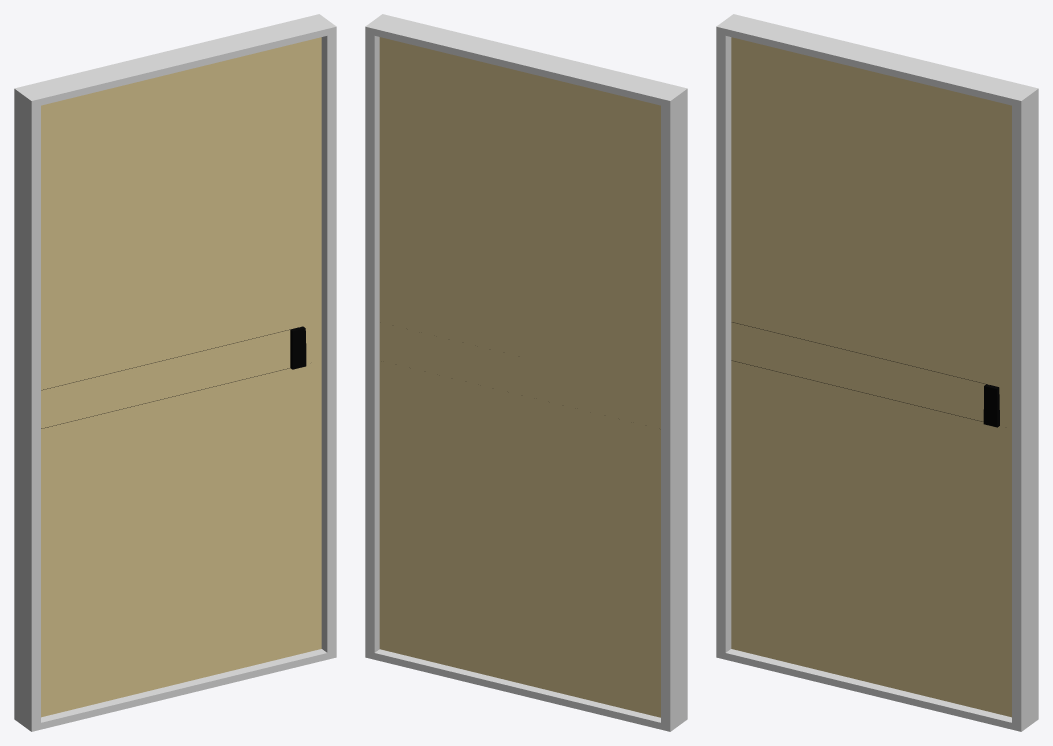
The picture shows the model from 3 angles, left to right: view 1: azimuth 30°, elevation 25°; view 2: azimuth 150°, elevation 25°; view 3: azimuth 330°, elevation 25°; orthographic projection.
Visible parts, largest first — view 1: door, Cube; view 2: door, Cube; view 3: door, Cube.
Part boxes in pixels (x1,y1,x2,y2): door: (41,37,321,717); Cube: (14,14,336,731); door: (379,37,660,717); Cube: (365,14,687,731); door: (731,37,1011,717); Cube: (716,14,1038,731).
Size of the model in its own units: 695 by 1372 by 68.12.
